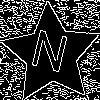N: (26, 29, 71, 82)
